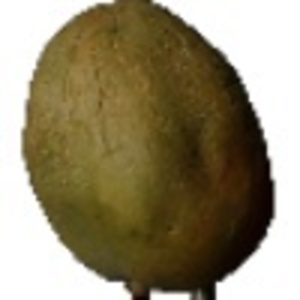mamão: (13, 2, 280, 291)
